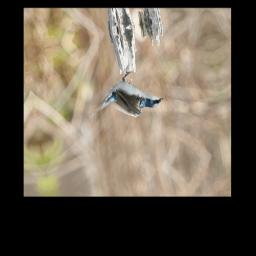Swallow: (83, 64, 166, 129)
